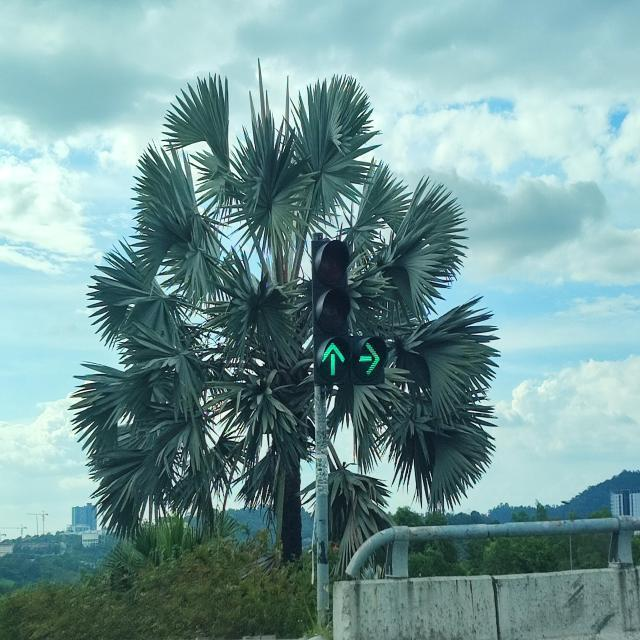green_light: (316, 239, 352, 385), (351, 240, 384, 386)
